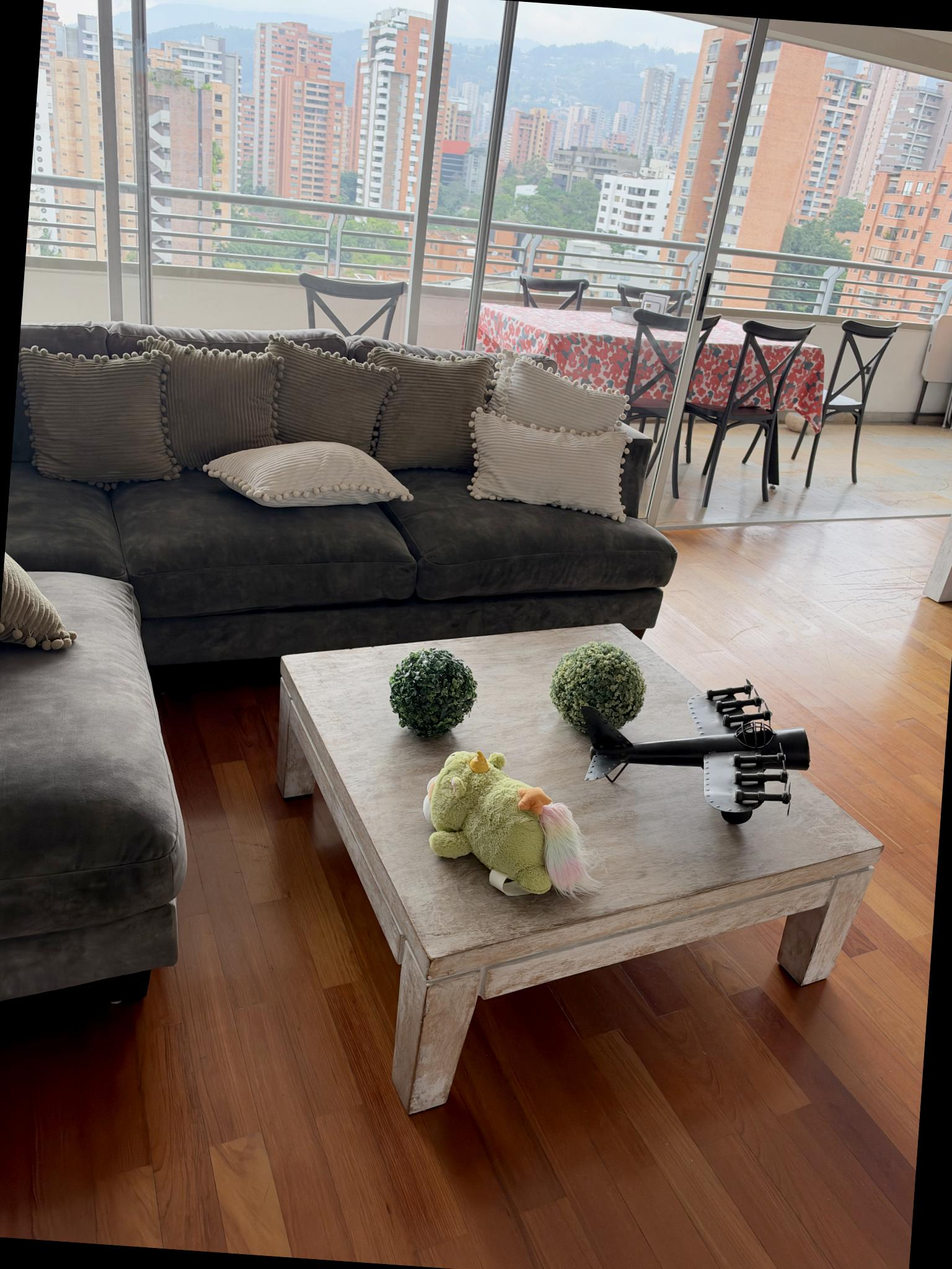peluche_martin: (416, 745, 612, 907)
